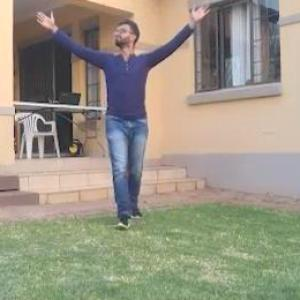takeoff: (20, 0, 233, 219)
